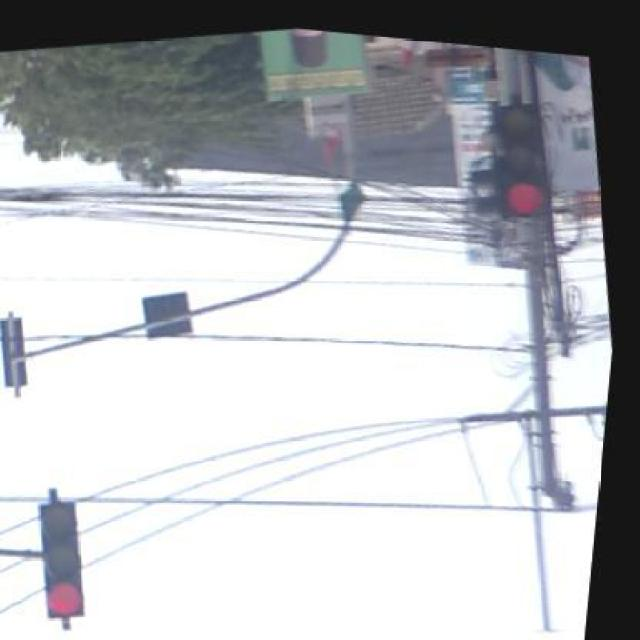Traffic Light -Red-: (478, 89, 564, 225), (36, 498, 86, 624)
